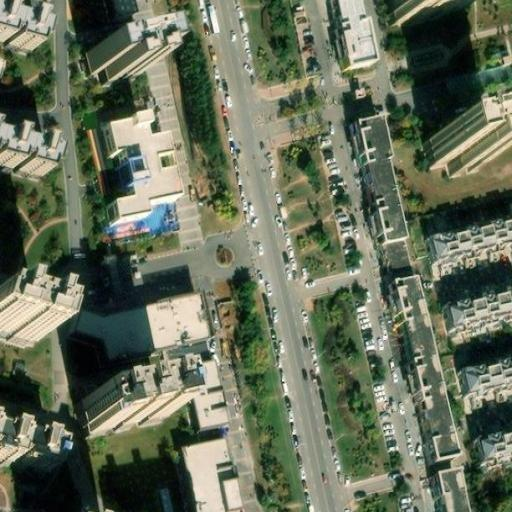building: (396, 283, 466, 470), (81, 303, 209, 373), (100, 120, 168, 223), (357, 129, 412, 249), (88, 373, 181, 436), (183, 436, 243, 512), (431, 213, 512, 263), (432, 122, 502, 172), (87, 39, 148, 87), (447, 284, 512, 326), (186, 361, 226, 427), (463, 352, 512, 392), (475, 421, 512, 458)
